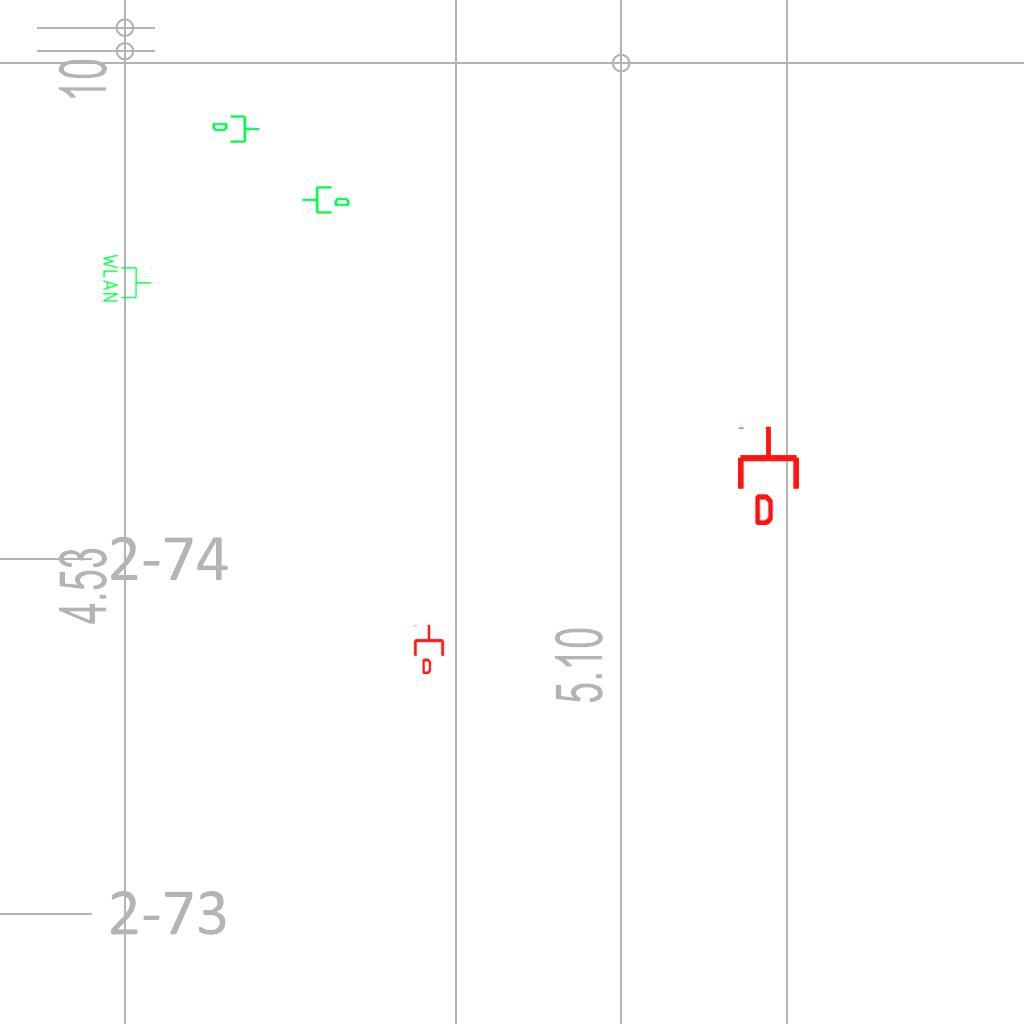Datenanschluss_einfach: (734, 425, 803, 525), (301, 182, 351, 216), (412, 624, 446, 674), (211, 113, 261, 147)
WLAN: (101, 252, 153, 304)
